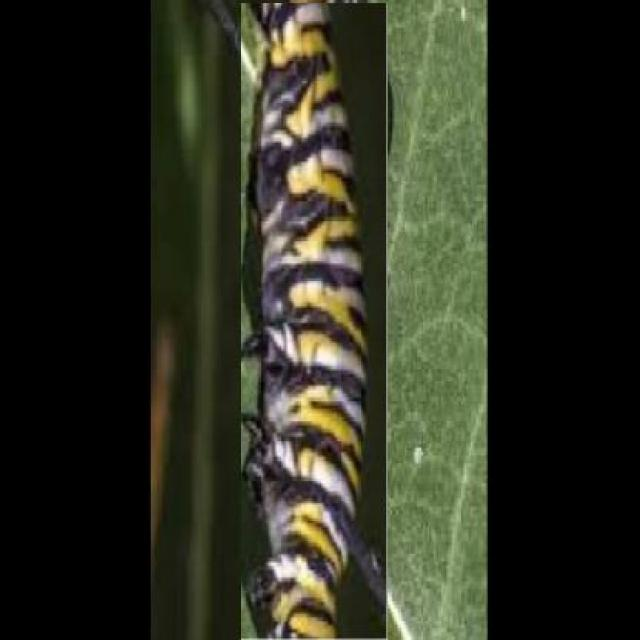Plaga: (240, 3, 391, 640)
